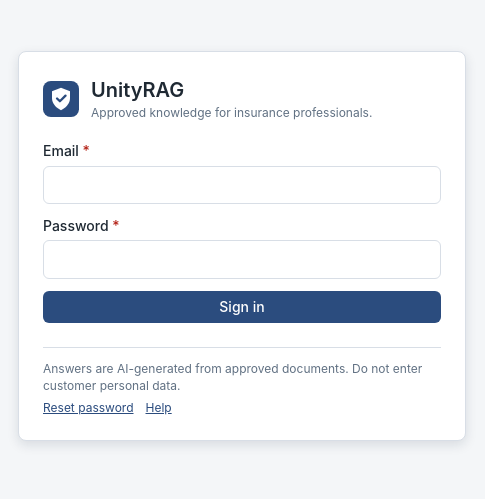
Test: login workflow › shows the lock-out message
This screenshot has width=485, height=499.
Type "a@b.co" into the field labelled "Email *" at (242, 185), box [43, 166, 441, 204]
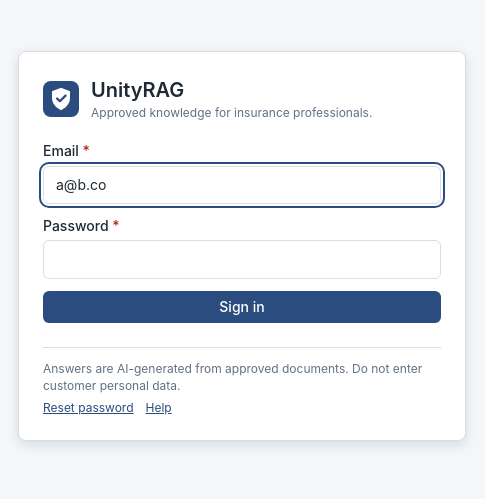
Type "x" into the password field labelled "Password *" at (242, 259), box [43, 240, 441, 279]
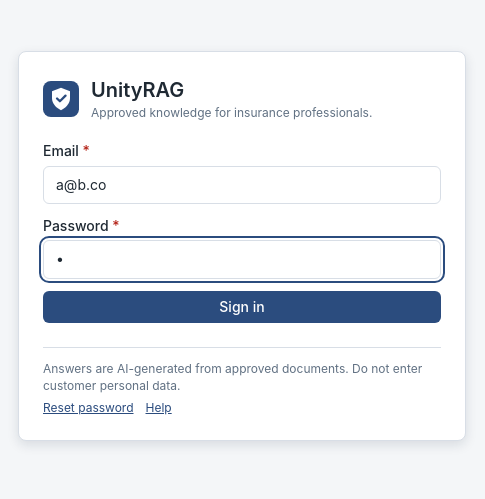
Click the button "Sign in" at (242, 307), box [43, 290, 441, 323]
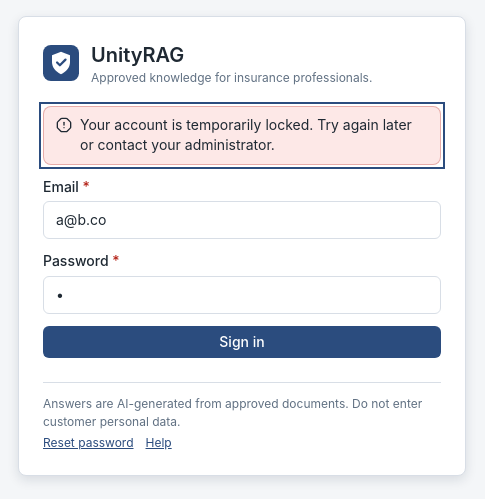
Expected: the text "temporarily locked" is shown, [80, 116, 412, 153]
